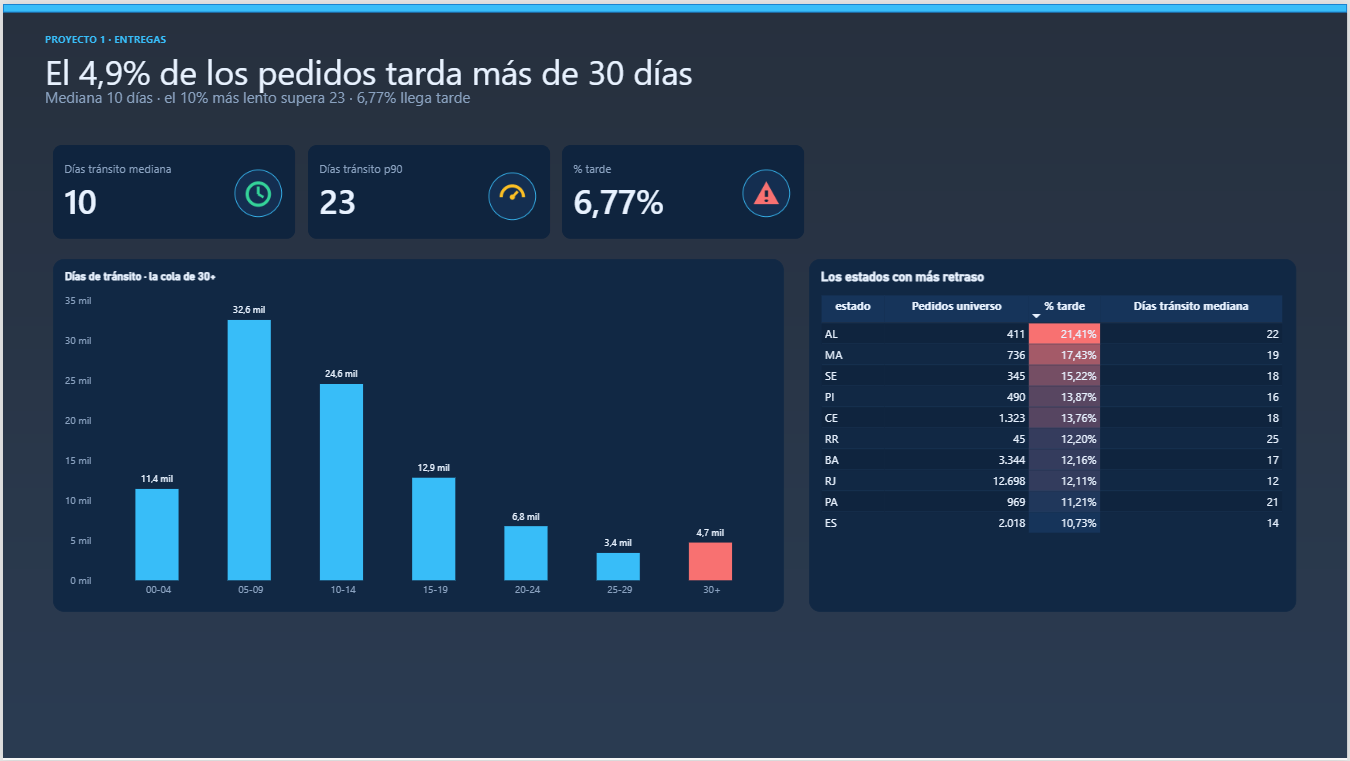

What the dashboard file says about the page in this screenshot:
{"tool":"powerbi","page":{"name":"Entregas","canvas":[1920,1080],"ordinal":1},"visuals":[{"type":"textbox","box":[20.9,50.1,642.8,61.2],"z":0},{"type":"textbox","box":[22.3,111.3,642.8,37.6],"z":1000},{"type":"cardVisual","fields":{"Data":["_Medidas.Días tránsito mediana"]},"box":[22.3,189.2,193.4,104.3],"z":2000},{"type":"cardVisual","fields":{"Data":["_Medidas.% tarde"]},"box":[443.8,189.2,193.4,104.3],"z":3000},{"type":"cardVisual","fields":{"Data":["_Medidas.Días tránsito p90"]},"box":[232.3,189.2,194.8,104.3],"z":4000},{"type":"clusteredColumnChart","title":"Días de tránsito","fields":{"Category":["hecho_pedidos.tramo_dias"],"Y":["_Medidas.Pedidos"]},"box":[22.3,332.5,756.9,559.3],"z":5000},{"type":"tableEx","title":"Retraso por estado","fields":{"Values":["dim_cliente.estado","_Medidas.Pedidos universo","_Medidas.% tarde","_Medidas.Días tránsito mediana"]},"box":[823.7,332.5,627.5,559.3],"z":6000}]}

Visuals, with their boxes in screenshot pixels (x1, y1, x2, y2), scaled from the page's 1920x1080 canvas onto the 1350x761 screenshot:
textbox: <box>15,35,467,78</box>
textbox: <box>16,78,468,105</box>
cardVisual - _Medidas.Días tránsito mediana: <box>16,133,152,207</box>
cardVisual - _Medidas.% tarde: <box>312,133,448,207</box>
cardVisual - _Medidas.Días tránsito p90: <box>163,133,300,207</box>
"Días de tránsito" clusteredColumnChart: <box>16,234,548,628</box>
"Retraso por estado" tableEx: <box>579,234,1020,628</box>
